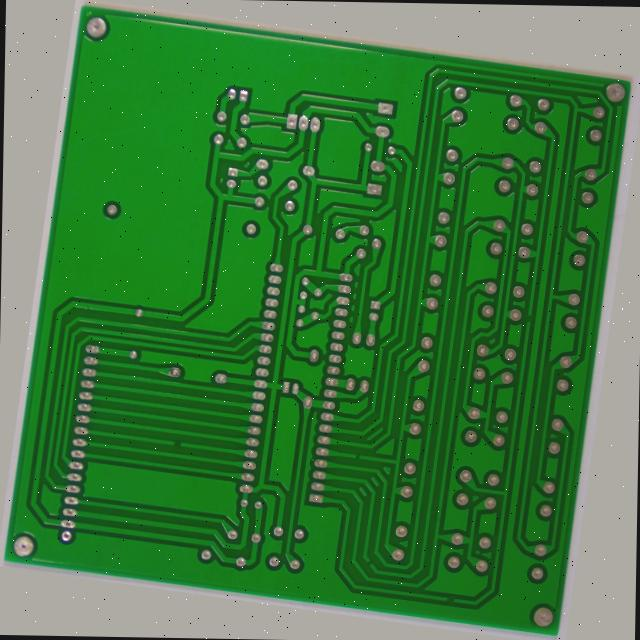open_circuit: (491, 604, 511, 615), (171, 467, 185, 481), (373, 458, 387, 470), (399, 574, 414, 585), (545, 281, 555, 295)
